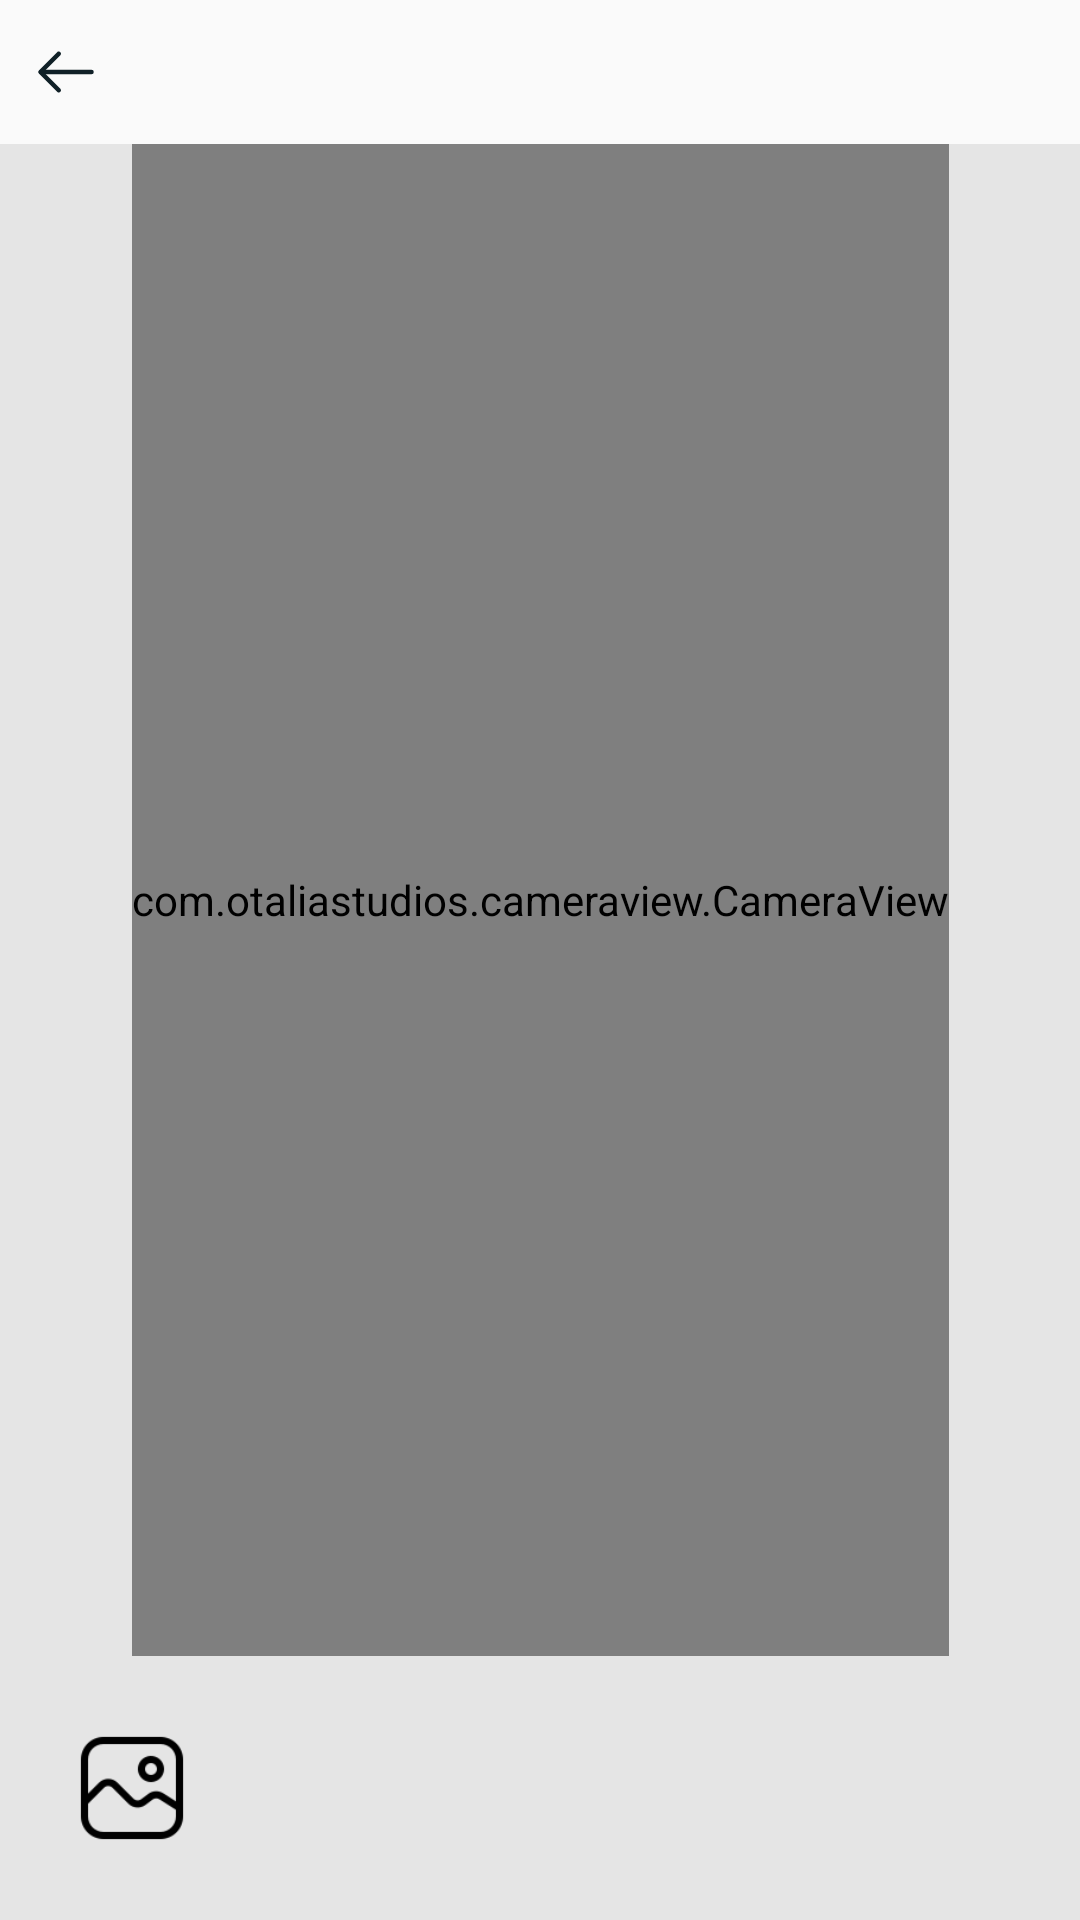

Icon bounding boxes for this 1080px×1920px phone screenshot, format bbox=[x1, y1, x2, y2]:
back all: bbox=[38, 51, 94, 93]
